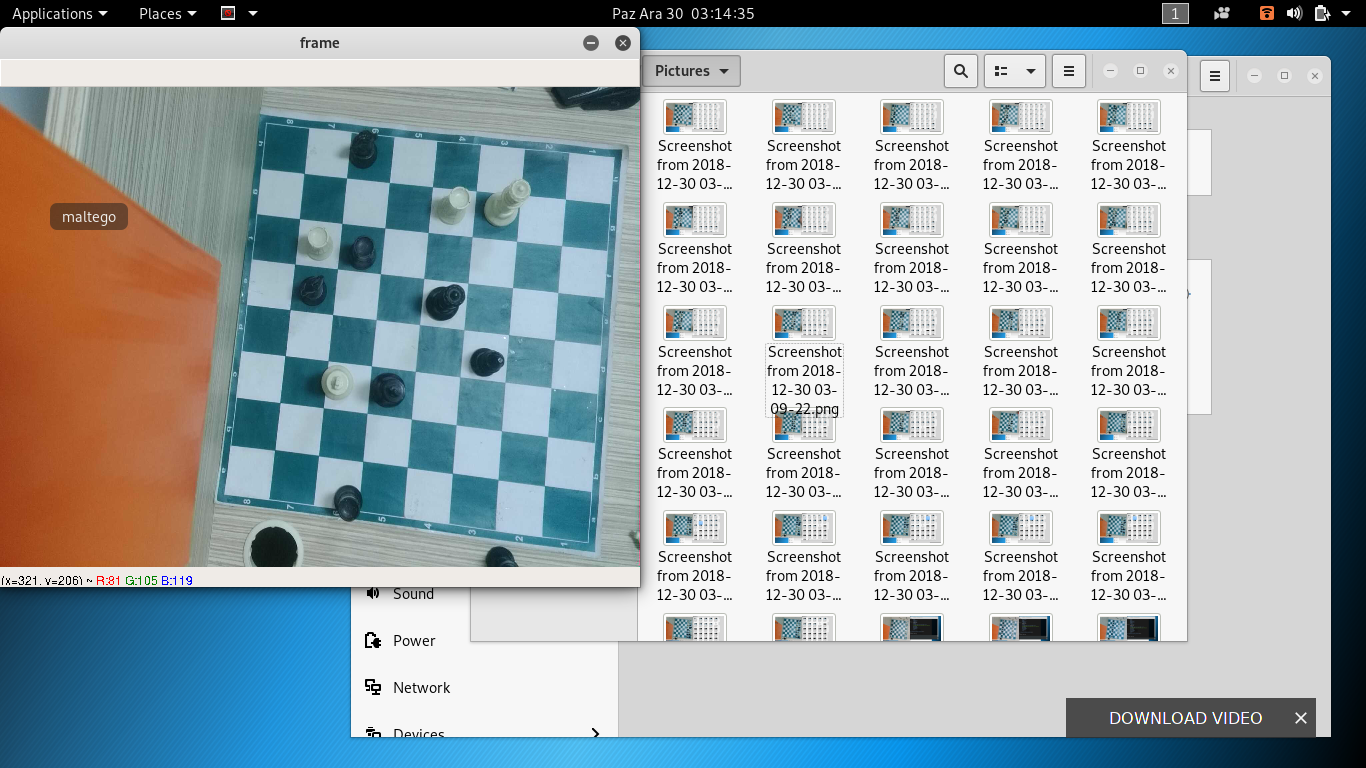BeyazSah: (320, 364, 354, 399)
BeyazVezir: (484, 179, 533, 230)
SiyahSah: (373, 371, 409, 410)
SiyahVezir: (425, 285, 465, 322)
